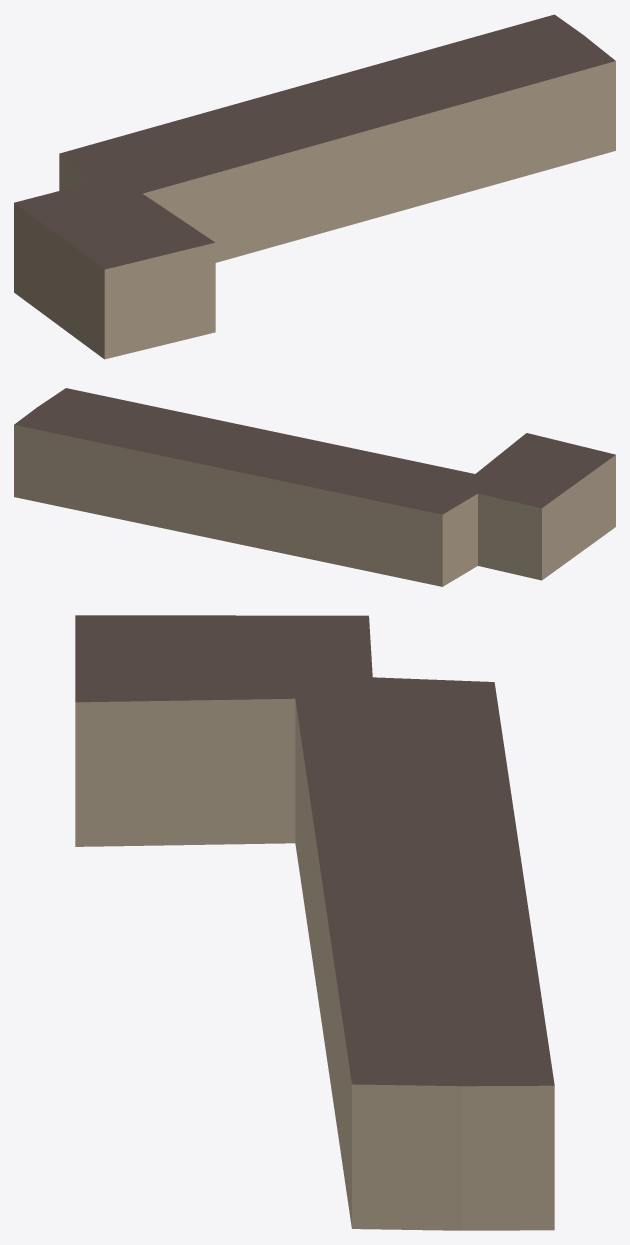
3 renders of one model, top to bottom at view 1: azimuth 30°, elevation 25°; view 2: azimuth 150°, elevation 25°; view 3: azimuth 270°, elevation 25°, orthographic. The views are drawn at different scales.
Visible parts, largest first — view 1: HP-w1512965873; view 2: HP-w1512965873; view 3: HP-w1512965873.
Boxes of the visible parts, x1,y1,x2,y2 form: HP-w1512965873: (14, 14, 615, 359); HP-w1512965873: (14, 388, 615, 586); HP-w1512965873: (75, 615, 554, 1230).
Bounding box in the file's own units: 62.89 × 9 × 27.05.
